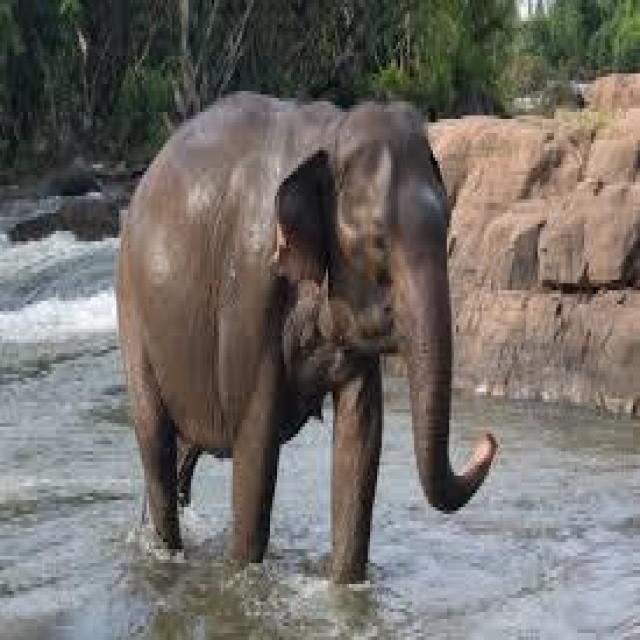Elephant: (114, 88, 496, 552)
